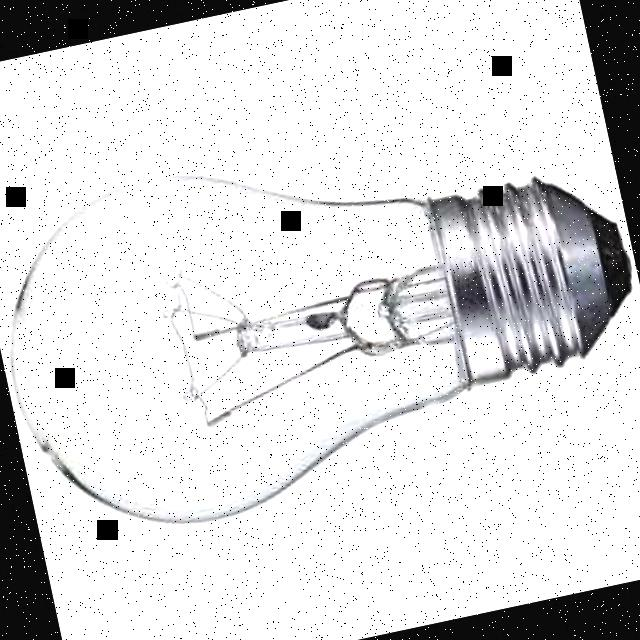light_bulb: (0, 80, 640, 557)
